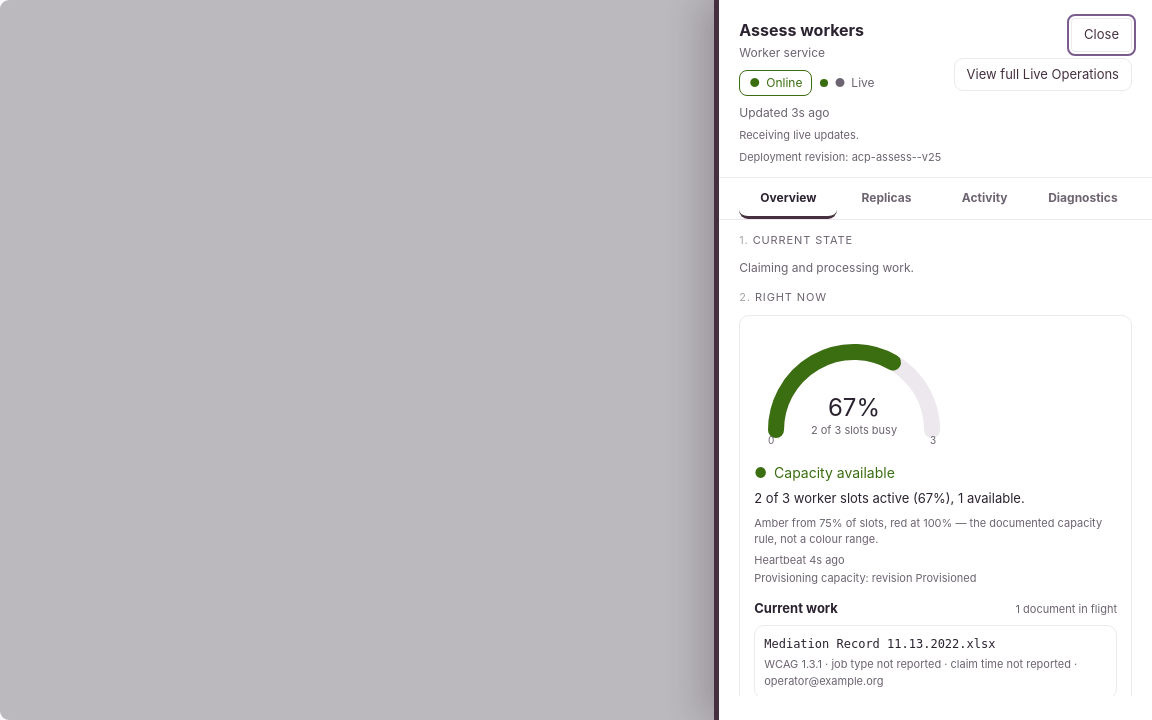
it: Task 19 — worker and queue, as the brief specifies › walks the provisioning stages in order for a worker
Click the tab "Replicas" at (886, 198), box left=837, top=178, right=936, bottom=219
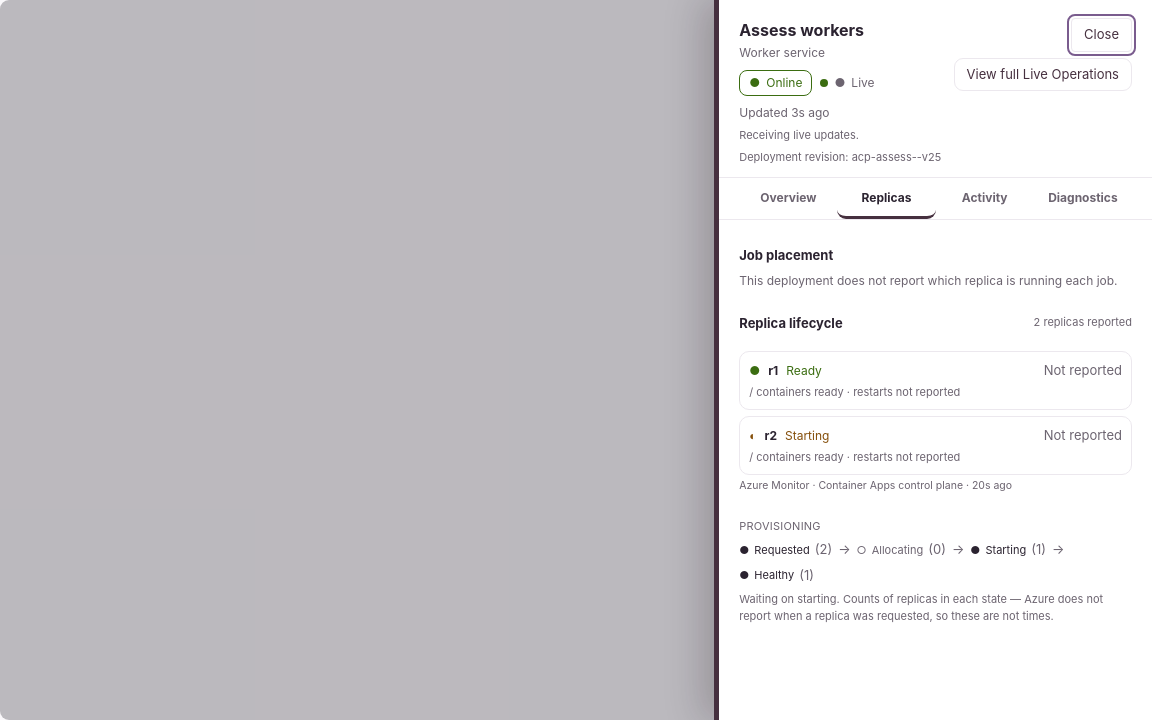
expect the panel shows "Requested": met, box left=754, top=543, right=810, bottom=557
expect the panel shows "Allocating": met, box left=872, top=543, right=923, bottom=557
expect the panel shows "Starting": met, box left=785, top=428, right=829, bottom=443
